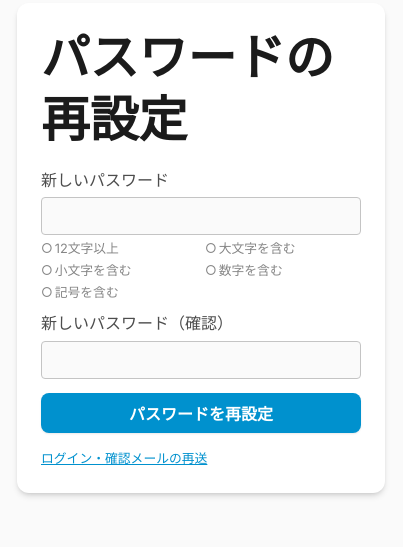
Test: reset password page › パスワードが一致しない場合はエラーを表示しresetPasswordを呼ばない
Step 1. Type "Password-123!ABC" into the password field labelled "新しいパスワード" → (201, 216), box [41,197,361,235]
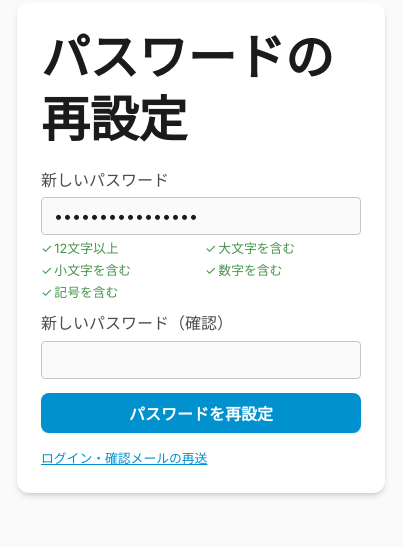
Step 2. Type "一致しない値12345" into the password field labelled "新しいパスワード（確認）" → (201, 360), box [41,341,361,379]
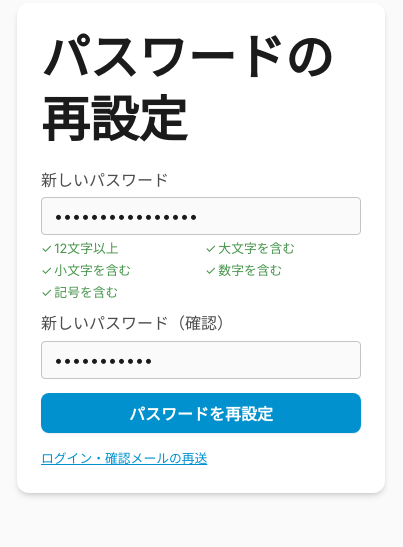
Step 3. Click the button "パスワードを再設定" → (201, 413), box [41,393,361,433]
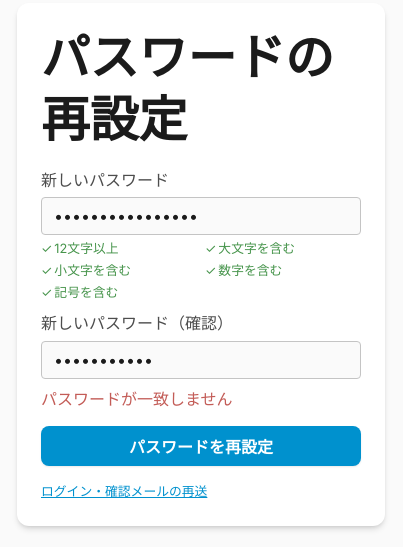
Expected: the message reads "パスワードが一致しません", [41,389,232,409]
